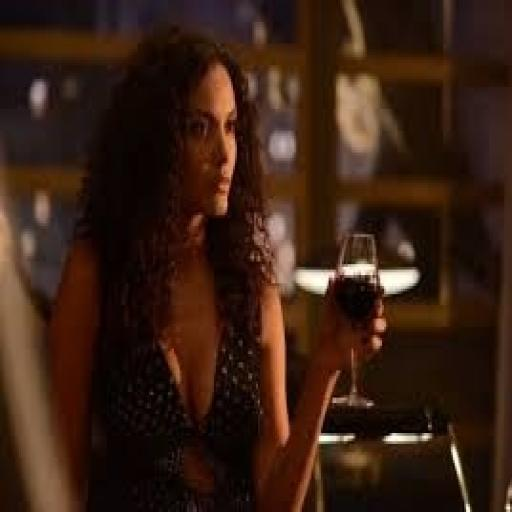drinking: (329, 229, 380, 408)
